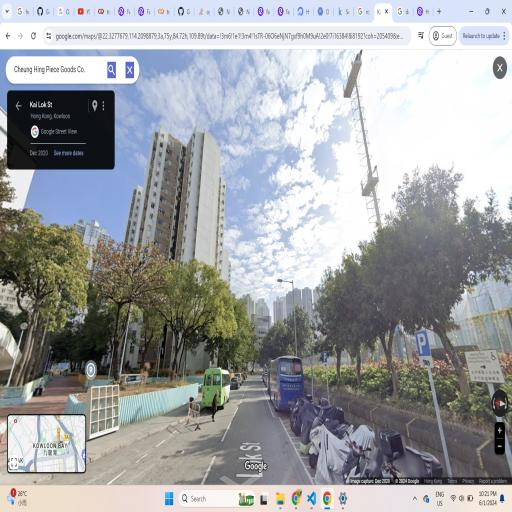Roads: (30, 366, 328, 483)
Trees: (373, 215, 482, 412), (7, 214, 83, 368), (166, 238, 240, 364), (98, 237, 158, 373), (314, 264, 383, 379)
